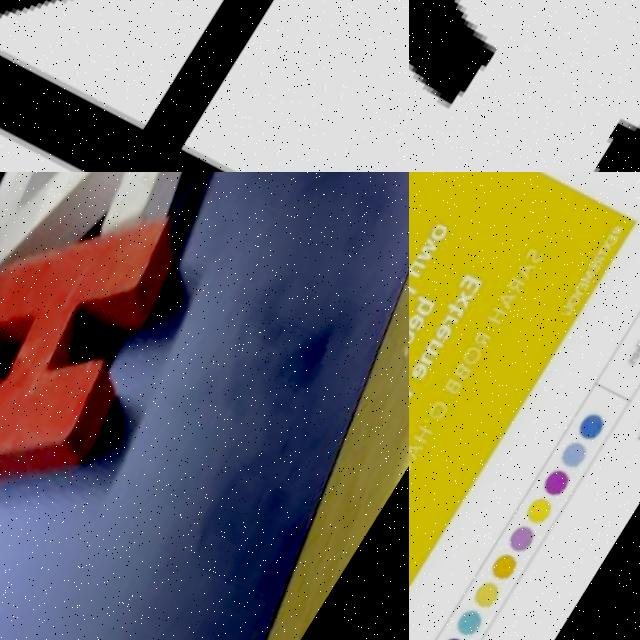A: (0, 172, 228, 565), (518, 266, 540, 288), (500, 297, 521, 319), (409, 446, 429, 467)
B: (415, 302, 439, 324), (457, 369, 478, 389), (449, 384, 468, 402)
C: (409, 332, 421, 352)
E: (461, 280, 486, 302), (413, 366, 435, 388), (436, 328, 458, 349), (410, 318, 431, 339), (590, 270, 605, 284), (578, 288, 593, 302), (608, 241, 623, 254), (634, 359, 640, 371)
G: (409, 462, 419, 483)
H: (490, 313, 511, 334), (418, 431, 439, 452)
K: (636, 351, 640, 363)
M: (421, 342, 449, 373), (583, 277, 600, 295)
N: (409, 263, 429, 284)
O: (429, 226, 453, 252), (467, 351, 489, 373), (433, 406, 455, 428), (569, 302, 585, 318)
P: (409, 287, 419, 311)
R: (510, 284, 529, 302), (477, 338, 496, 356), (445, 319, 463, 335), (594, 262, 609, 275)
S: (528, 255, 547, 273), (630, 366, 640, 376)
T: (448, 306, 470, 326), (599, 256, 613, 270)
U: (563, 311, 579, 327)
W: (416, 242, 442, 271)
X: (455, 295, 478, 317), (603, 249, 618, 262)
Y: (409, 385, 421, 409), (574, 295, 589, 309)
Z: (0, 172, 253, 405)
